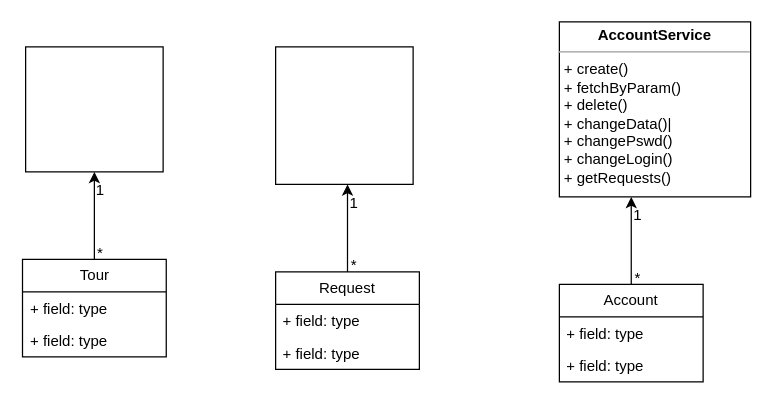
The diagram is 773 pixels wide and 408 high, and some of its shapes have lost their labels. The shapes that lost their labels are listed below. From the top down, each one's box as (x1, y1, x2, y2) in pixels, then its label:
(24, 46, 163, 172): TourService + create() + fetchByParam() + setSale() + delete()
(274, 46, 413, 184): RequestService + create() + fetchByParam() + reject() + apply() + delete()
